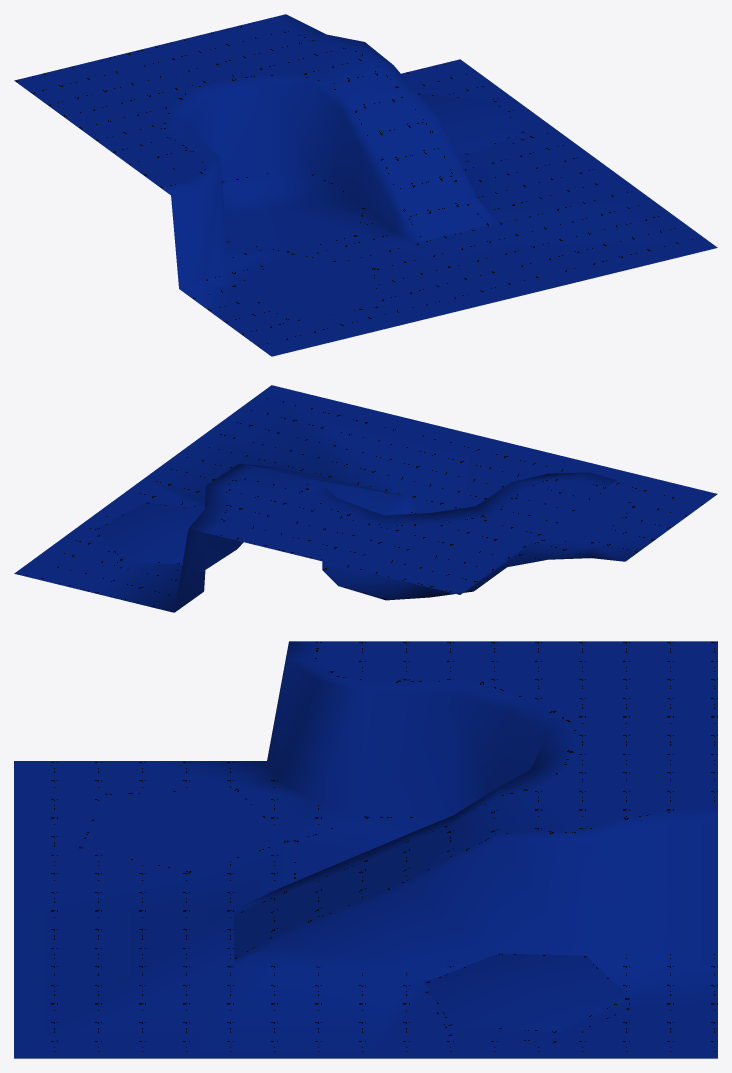
Rendered from GRD_S_C2_S_3.fbx.
3 renders of one model, top to bottom at view 1: azimuth 30°, elevation 25°; view 2: azimuth 150°, elevation 25°; view 3: azimuth 270°, elevation 25°, orthographic. The views are drawn at different scales.
Parts seen in each view (by area): view 1: material_00032000, material_00022000, material_C0042000, material_C0012000; view 2: material_00032000, material_00022000, material_C0042000, material_C0012000, material_C0052000; view 3: material_00032000, material_00022000, material_C0042000, material_C0012000, material_C0052000.
Boxes of the visible parts, box(x1,y1,x2,y2) form: material_00032000: box(14, 19, 717, 356); material_00022000: box(159, 14, 497, 288); material_C0042000: box(222, 171, 379, 320); material_C0012000: box(418, 93, 525, 154); material_00032000: box(14, 385, 717, 612); material_00022000: box(174, 464, 616, 612); material_C0042000: box(322, 493, 635, 600); material_C0012000: box(96, 502, 203, 564); material_C0052000: box(96, 534, 182, 571); material_00032000: box(14, 641, 717, 1058); material_00022000: box(234, 641, 717, 968); material_C0042000: box(78, 788, 449, 882); material_C0012000: box(424, 953, 631, 1032); material_C0052000: box(424, 991, 631, 1042).
Size of the model in its own units: 12800 by 2400 by 12800.
